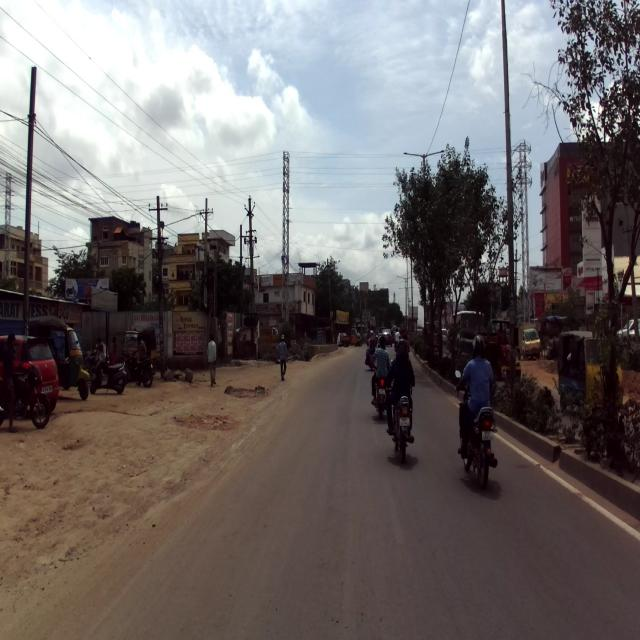Car_Maruti-Suzuki: (0, 334, 59, 412)
autorickshaw: (556, 329, 624, 424), (25, 316, 90, 401)
motorcycle_Hero: (386, 367, 415, 467)
motorcycle_Honda: (454, 368, 498, 486)
motorcycle_bajaj: (1, 364, 54, 428)
